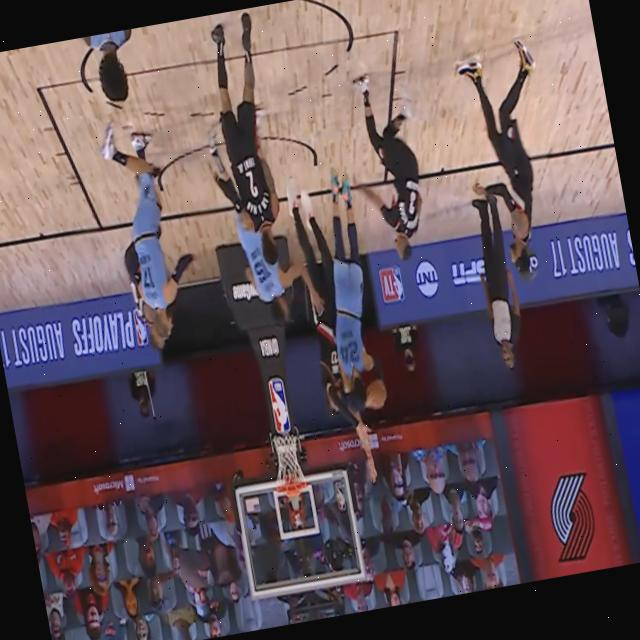foul: (278, 153, 412, 492)
no foul: (198, 16, 314, 333), (184, 6, 303, 262)
